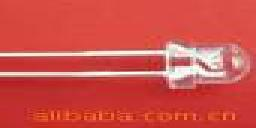LED: (3, 40, 255, 92)
